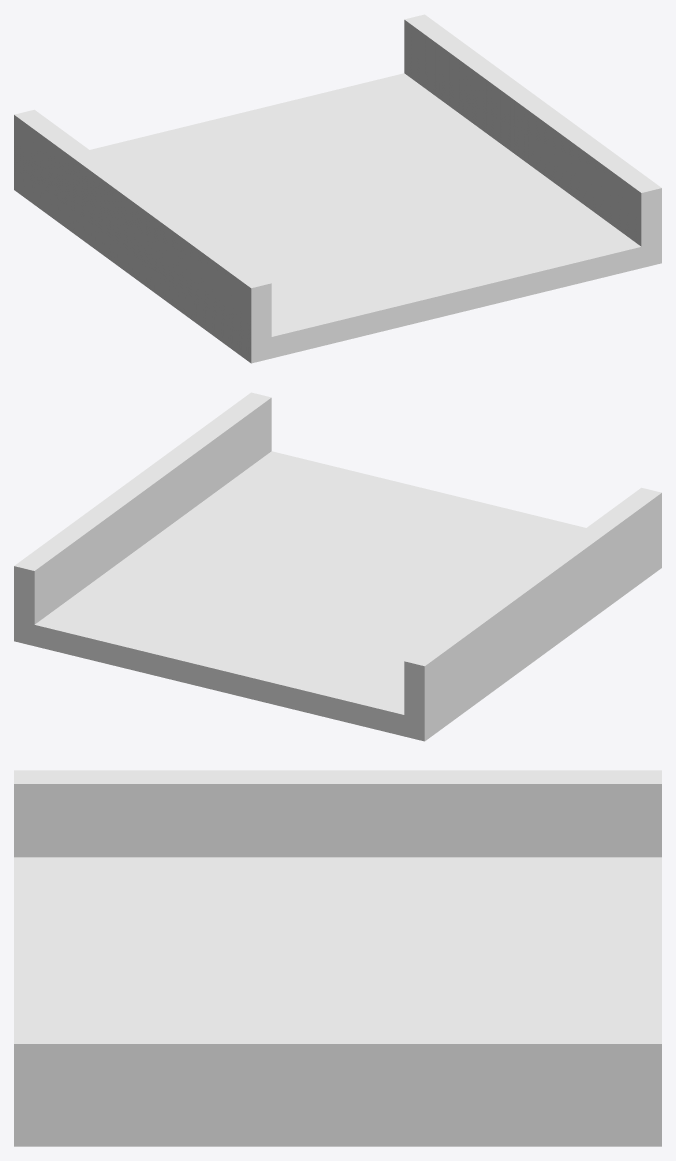
File: WhiteRoof_2Edges.glb
The picture shows the model from 3 angles, top to bottom: view 1: azimuth 30°, elevation 25°; view 2: azimuth 150°, elevation 25°; view 3: azimuth 270°, elevation 25°; orthographic projection. The views are drawn at different scales.
Parts seen in each view (by area): view 1: roof_flat_2Edges_white; view 2: roof_flat_2Edges_white; view 3: roof_flat_2Edges_white.
Part boxes in pixels (x1,y1,x2,y2): roof_flat_2Edges_white: [14, 14, 661, 363]; roof_flat_2Edges_white: [14, 392, 661, 741]; roof_flat_2Edges_white: [14, 770, 661, 1146].
Size of what is drawn, in the model's own units: 4 by 0.7 by 4.
1 material, 1 textured.
